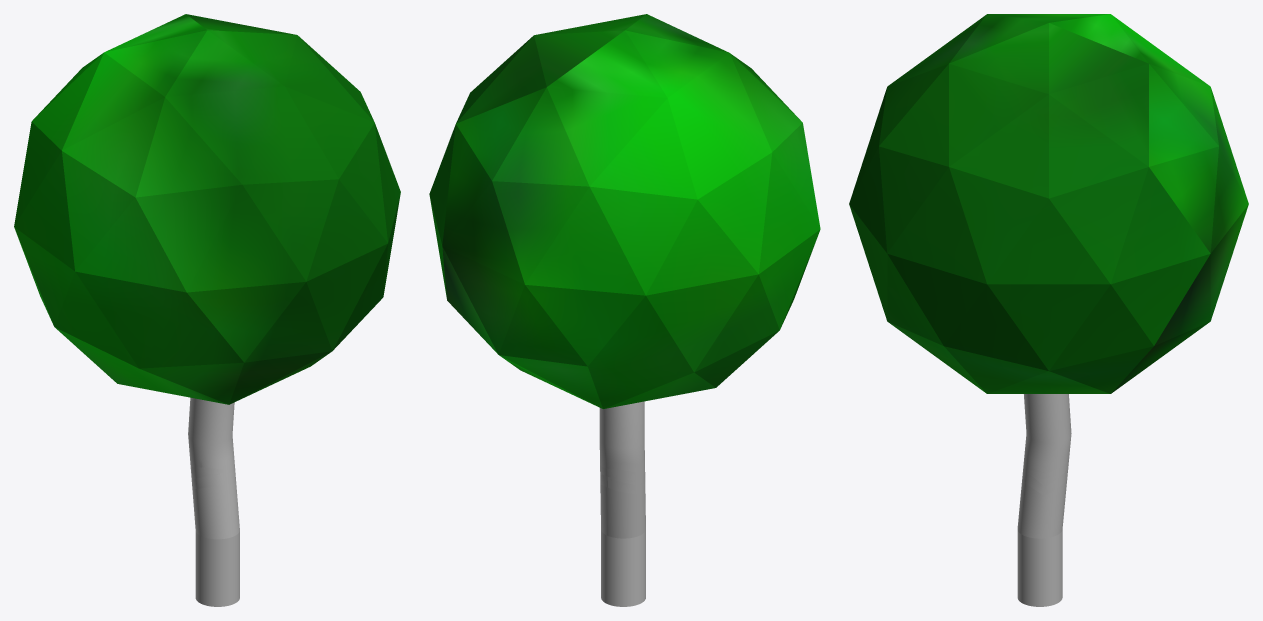
The model's file is Tree_Rounded.fbx.
3 renders of one model, left to right at view 1: azimuth 30°, elevation 25°; view 2: azimuth 150°, elevation 25°; view 3: azimuth 270°, elevation 25°, orthographic.
Parts seen in each view (by area): view 1: Icosphere, Cylinder, Cylinder.002; view 2: Icosphere, Cylinder, Cylinder.002; view 3: Icosphere, Cylinder, Cylinder.002.
Boxes of the visible parts, <box> form: Icosphere: <box>14,14,400,404</box>; Cylinder: <box>188,397,239,539</box>; Cylinder.002: <box>195,531,239,606</box>; Icosphere: <box>429,14,820,408</box>; Cylinder: <box>599,401,645,538</box>; Cylinder.002: <box>601,530,645,606</box>; Icosphere: <box>849,14,1248,393</box>; Cylinder: <box>1017,394,1071,538</box>; Cylinder.002: <box>1017,529,1062,606</box>.
Bounding box in the file's own units: 238 × 395 × 250.
